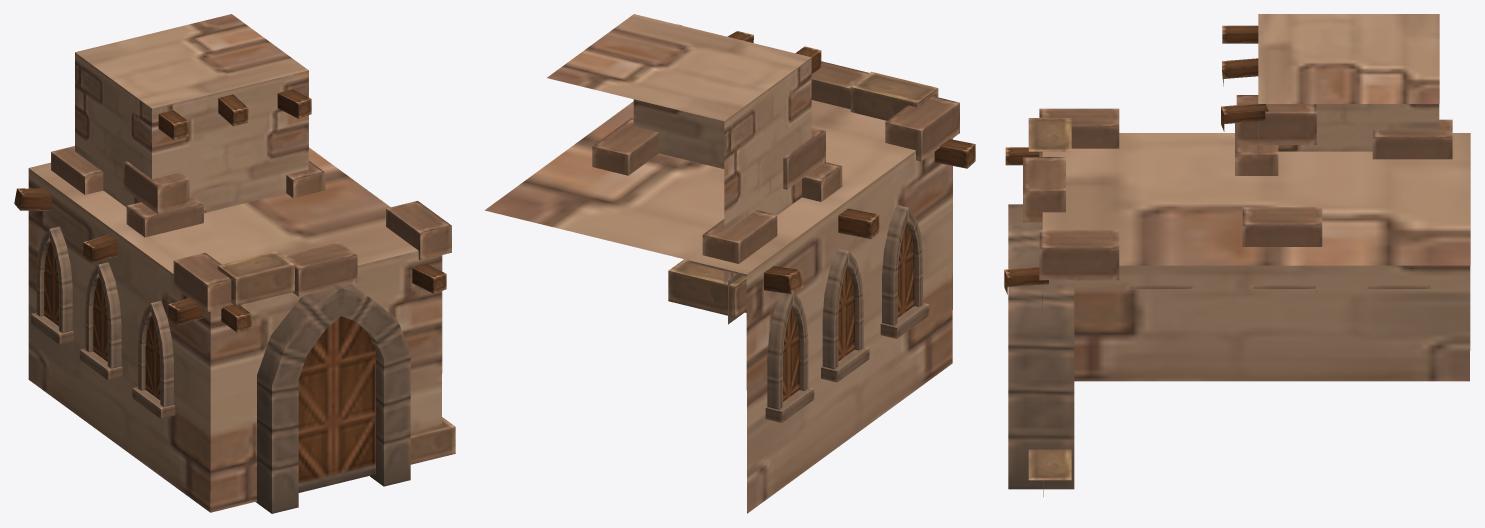
File: mine_prop_2_2.FBX
The picture shows the model from 3 angles, left to right: view 1: azimuth 30°, elevation 25°; view 2: azimuth 150°, elevation 25°; view 3: azimuth 270°, elevation 25°; orthographic projection. The views are drawn at different scales.
Visible parts, largest first — view 1: mine_prop_2_2; view 2: mine_prop_2_2; view 3: mine_prop_2_2.
Boxes of the visible parts, x1,y1,x2,y2 form: mine_prop_2_2: (14, 14, 455, 513); mine_prop_2_2: (484, 14, 975, 513); mine_prop_2_2: (1004, 14, 1470, 496).
Size of the model in its own units: 74.87 by 87.87 by 95.69.
